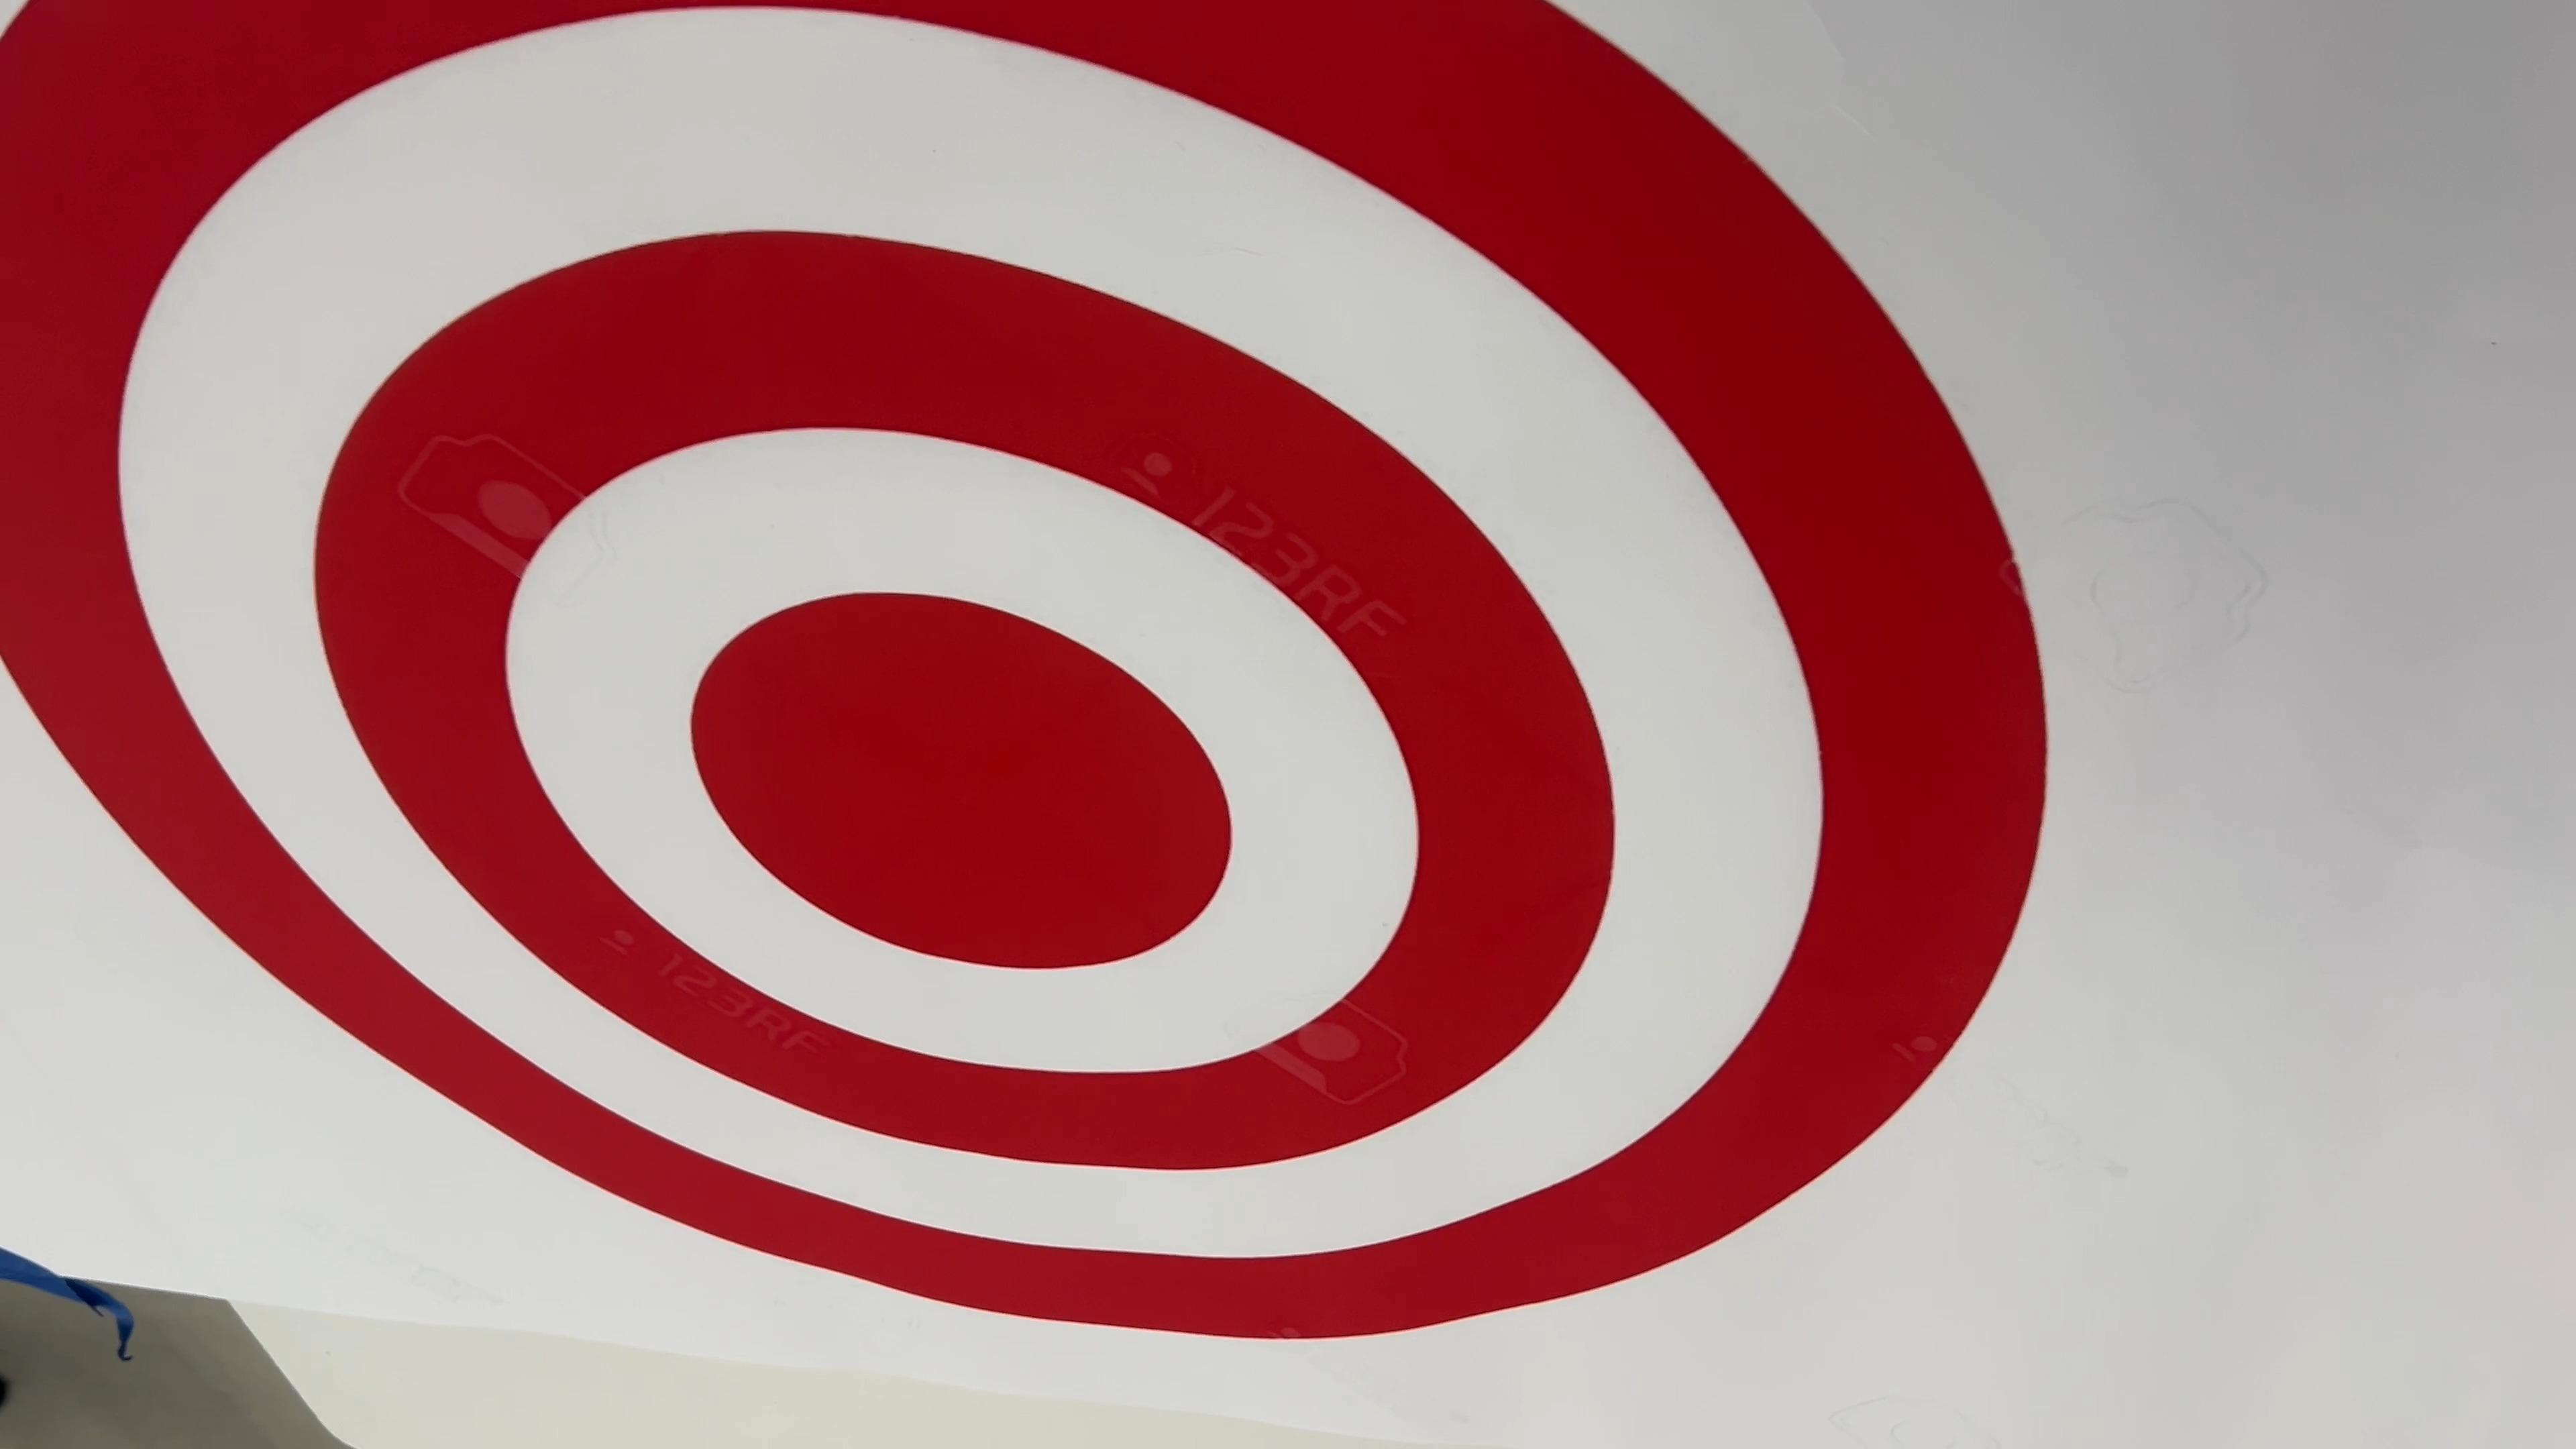target_red: (0, 0, 2095, 1366)
